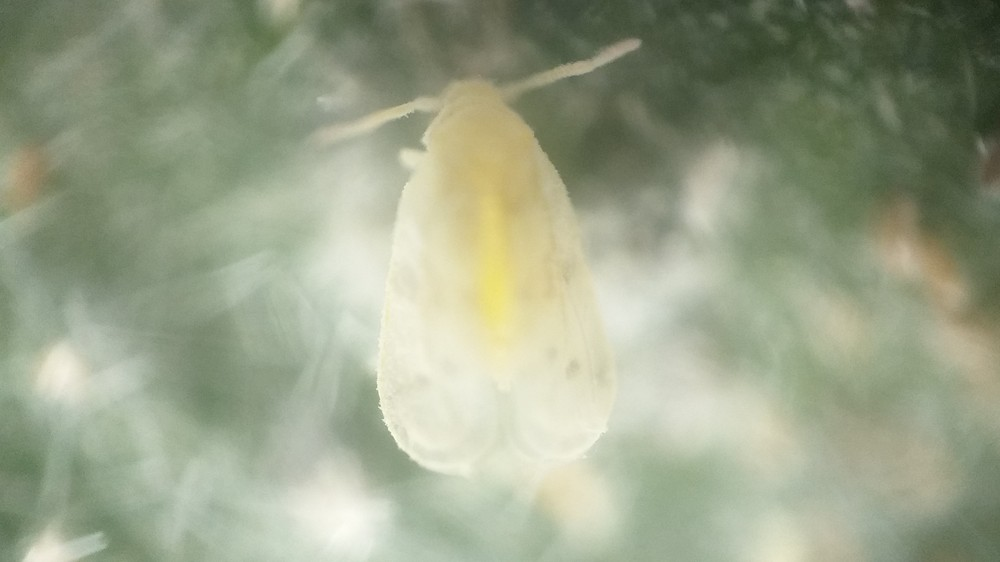Mosca Blanca: (315, 39, 681, 490)
